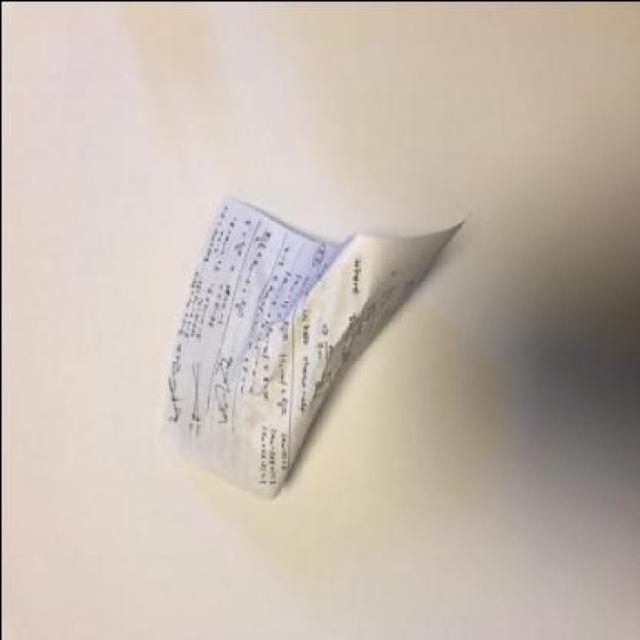paper: (161, 193, 467, 500)
